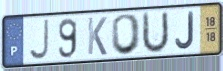9: (57, 17, 78, 60)
J: (27, 18, 50, 62), (174, 10, 196, 51)
K: (86, 16, 108, 57)
O: (110, 13, 143, 57)
U: (140, 9, 171, 56)
